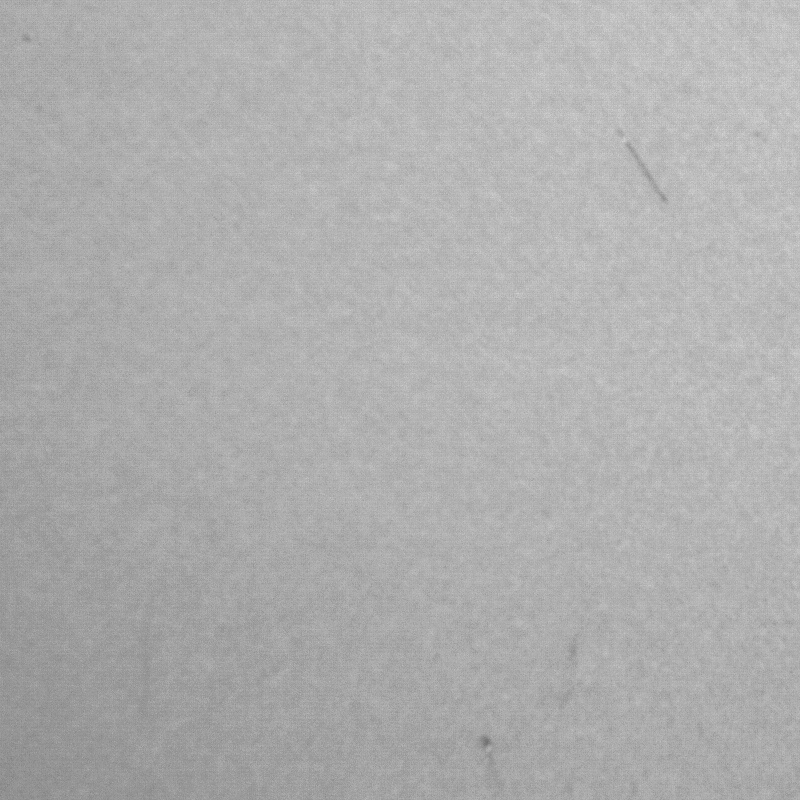defect: (616, 129, 673, 209), (478, 735, 500, 763), (23, 31, 37, 46)
